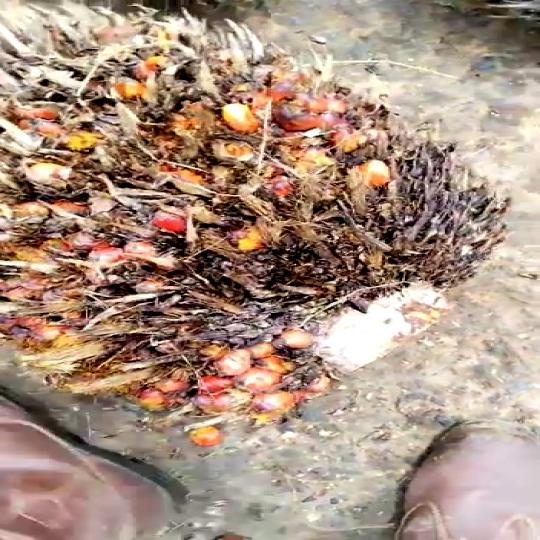terlalu masak: (0, 0, 540, 463)
